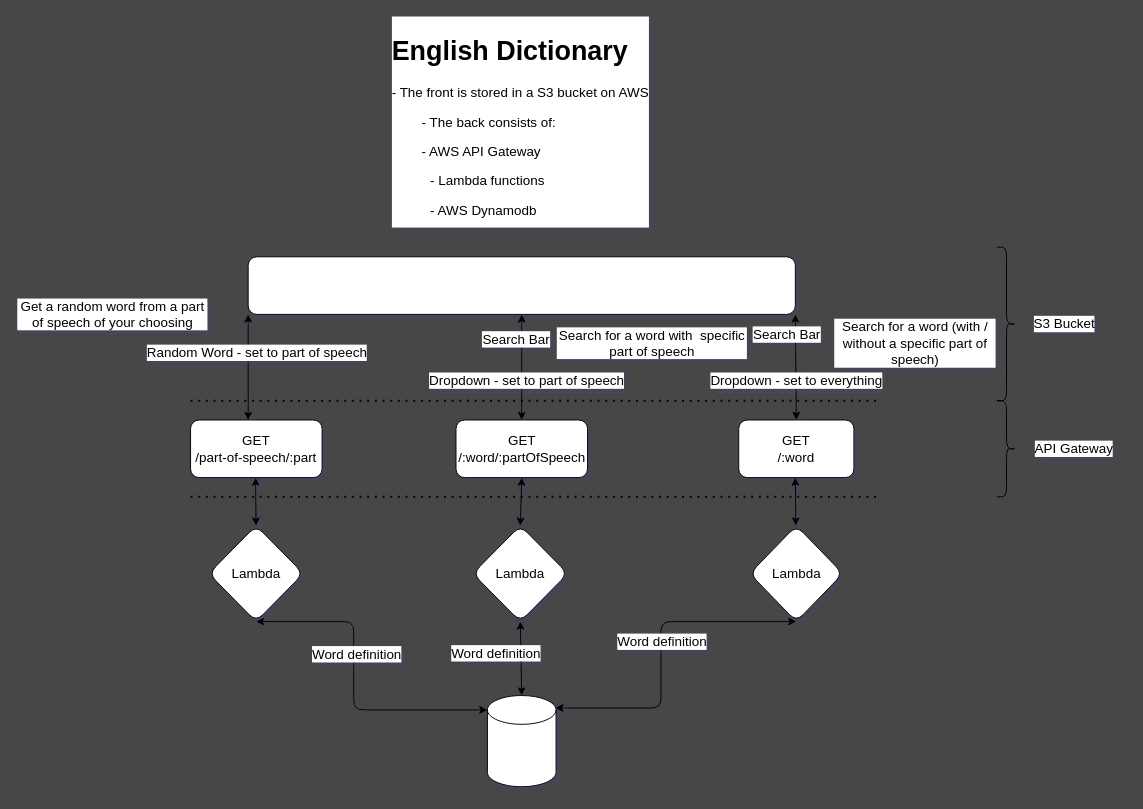
The diagram is 1143 pixels wide and 809 high, and some of its shapes have lost their labels. The box of each missing label's shape, as (x1, y1, x2, y2) in pixels:
DynamoDB: (486, 695, 556, 787)
Front web page: (247, 256, 795, 314)
